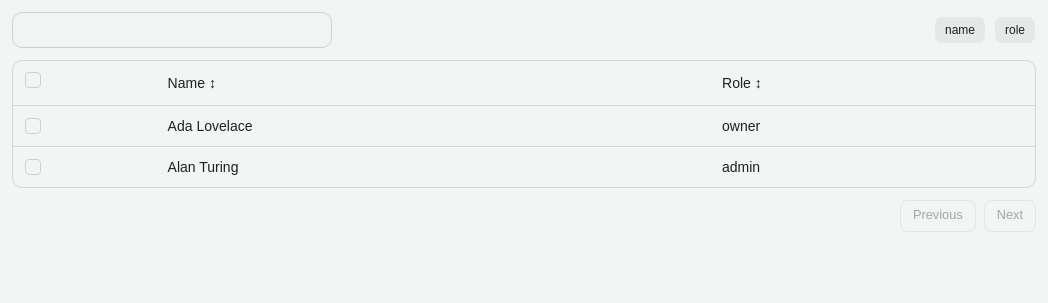
Scenario: DataTable › selects the rows and offers the bulk actions
Click the checkbox named "Select the row" next to "Ada Lovelace".
click(33, 126)  # box [25,118,41,134]
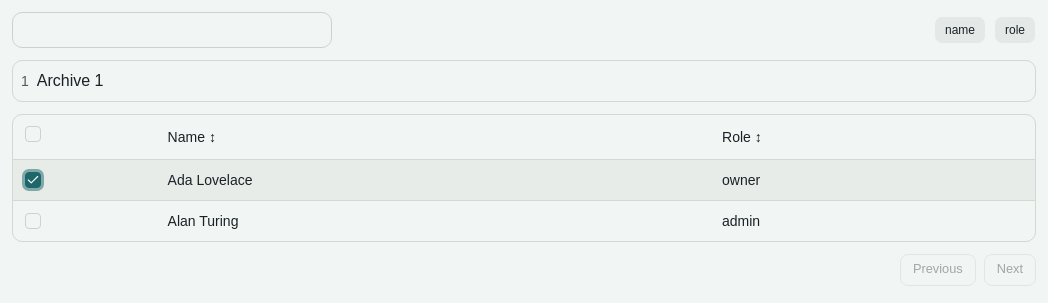
Expected: the button "Archive 1" is shown, [37,69,104,93]
